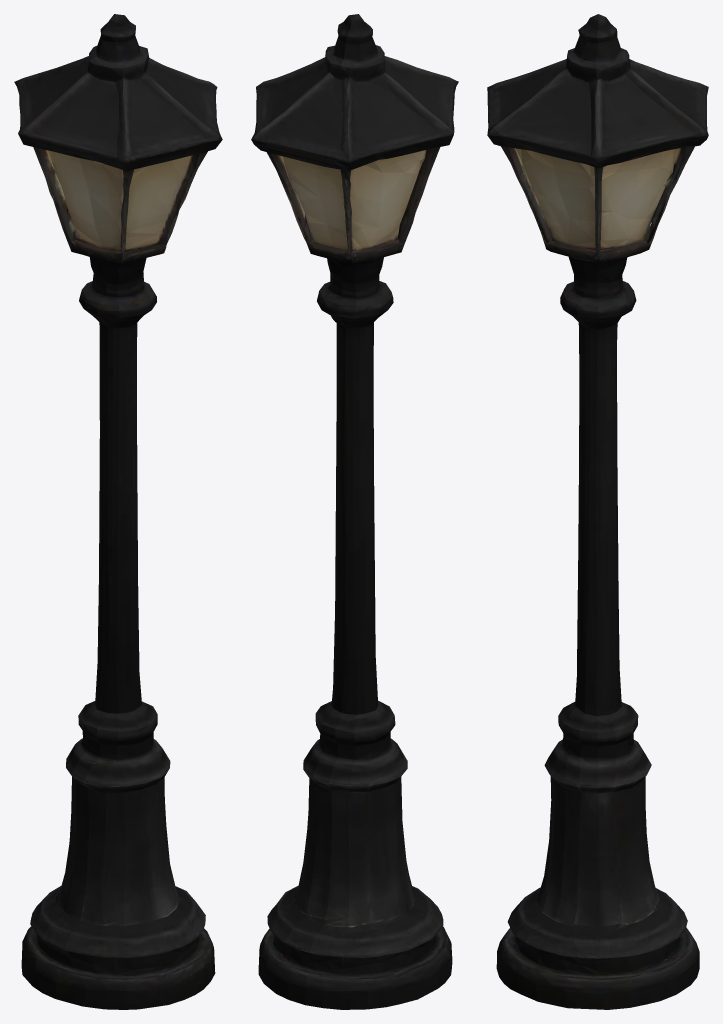
File: streetlight.glb
3 views of the same model, side by side, from view 1: azimuth 30°, elevation 25°; view 2: azimuth 150°, elevation 25°; view 3: azimuth 270°, elevation 25° (orthographic).
Visible parts, largest first — view 1: world; view 2: world; view 3: world.
Part boxes in pixels (x1,y1,x2,y2): world: [14, 14, 222, 1009]; world: [251, 14, 458, 1009]; world: [487, 14, 708, 1009].
Size of the model in its own units: 0.2172 by 1 by 0.2109.
1 material, 1 textured.
